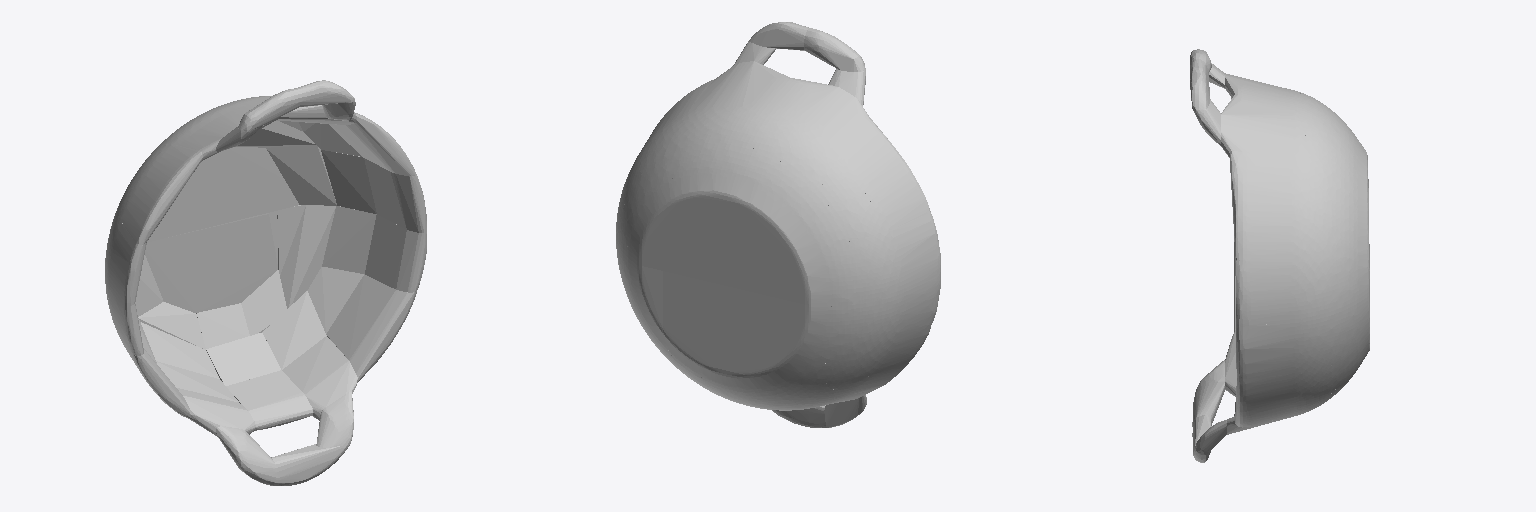
Rendered from coacd_collision.obj.
3 views of the same model, side by side, from view 1: azimuth 30°, elevation 25°; view 2: azimuth 150°, elevation 25°; view 3: azimuth 270°, elevation 25° (orthographic).
Parts seen in each view (by area): view 1: geometry_1, geometry_0, geometry_18, geometry_32, geometry_16, geometry_46, geometry_4, geometry_44, geometry_31, geometry_7, geometry_26, geometry_47 (+25 smaller); view 2: geometry_0, geometry_1, geometry_32, geometry_10, geometry_41, geometry_15, geometry_24, geometry_35, geometry_3, geometry_37, geometry_25, geometry_14 (+21 smaller); view 3: geometry_34, geometry_15, geometry_31, geometry_16, geometry_18, geometry_17, geometry_38, geometry_0, geometry_3, geometry_26, geometry_7, geometry_43 (+11 smaller).
Boxes of the visible parts, <box> form: geometry_1: <box>145,211,277,312</box>; geometry_0: <box>147,147,298,242</box>; geometry_18: <box>326,274,416,381</box>; geometry_32: <box>119,144,202,244</box>; geometry_16: <box>365,215,426,292</box>; geometry_46: <box>282,336,357,420</box>; geometry_4: <box>280,205,335,308</box>; geometry_44: <box>226,370,313,430</box>; geometry_31: <box>364,158,426,232</box>; geometry_7: <box>266,145,336,205</box>; geometry_26: <box>322,206,376,273</box>; geometry_47: <box>262,291,326,369</box>; geometry_0: <box>627,172,831,305</box>; geometry_1: <box>663,271,831,390</box>; geometry_32: <box>836,118,930,231</box>; geometry_10: <box>794,180,862,304</box>; geometry_41: <box>769,78,869,144</box>; geometry_15: <box>686,61,789,114</box>; geometry_24: <box>889,212,940,292</box>; geometry_35: <box>819,159,884,239</box>; geometry_3: <box>636,143,739,194</box>; geometry_37: <box>849,231,899,301</box>; geometry_25: <box>784,119,845,192</box>; geometry_14: <box>741,102,810,162</box>; geometry_34: <box>1230,151,1299,260</box>; geometry_15: <box>1221,94,1294,164</box>; geometry_31: <box>1235,255,1297,326</box>; geometry_16: <box>1236,321,1298,378</box>; geometry_18: <box>1235,373,1298,427</box>; geometry_17: <box>1300,167,1335,254</box>; geometry_38: <box>1298,245,1335,320</box>; geometry_0: <box>1355,136,1369,302</box>; geometry_3: <box>1336,127,1355,237</box>; geometry_26: <box>1299,312,1335,372</box>; geometry_7: <box>1336,227,1355,311</box>; geometry_43: <box>1295,132,1335,189</box>.
Size of the model in its own units: 202 by 253 by 104.